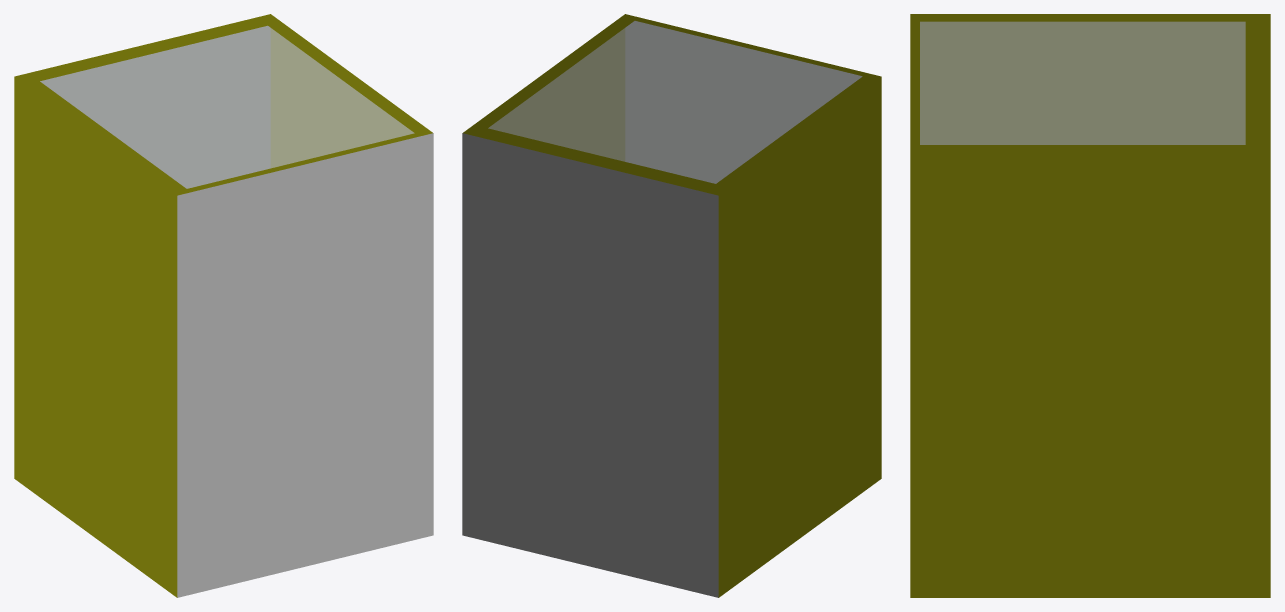
File: idf.obj
The picture shows the model from 3 angles, left to right: view 1: azimuth 30°, elevation 25°; view 2: azimuth 150°, elevation 25°; view 3: azimuth 270°, elevation 25°; orthographic projection. The views are drawn at different scales.
Bounding box in the file's own units: 3.05 × 4.57 × 3.35.
